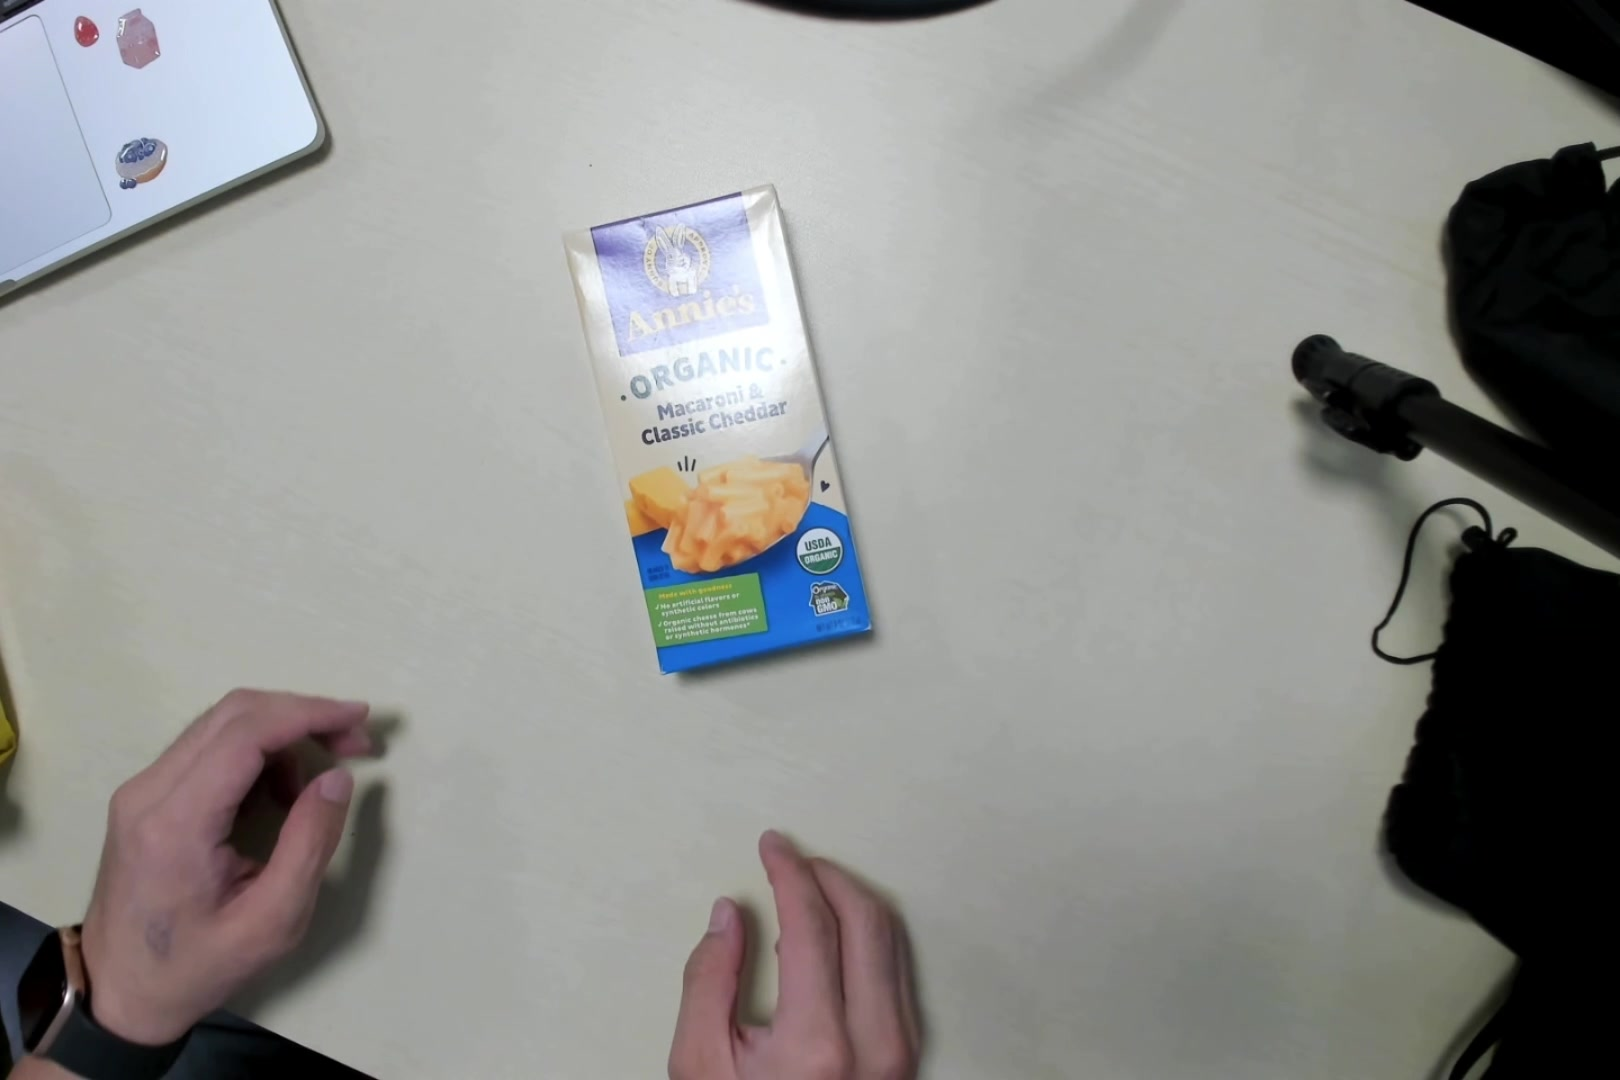InstantMeals_200-299g_NonHalal_NonHealthy: (554, 180, 876, 687)
